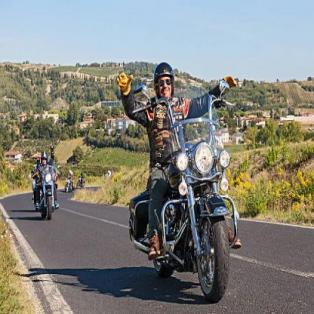Motocicleta: (134, 112, 243, 304), (27, 148, 62, 223)
